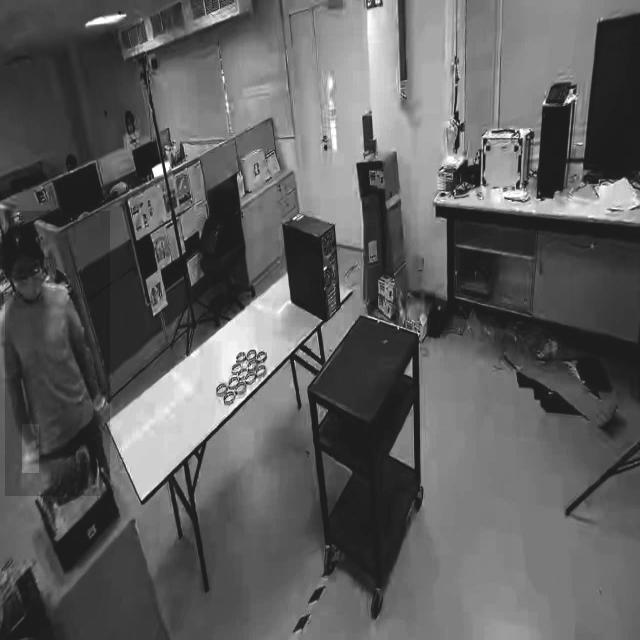face_mask: (12, 242, 48, 308)
hand_glove: (86, 384, 112, 434), (21, 424, 39, 474)
head_nohelmet: (7, 220, 43, 255), (126, 109, 134, 118)
person: (4, 211, 110, 497)
